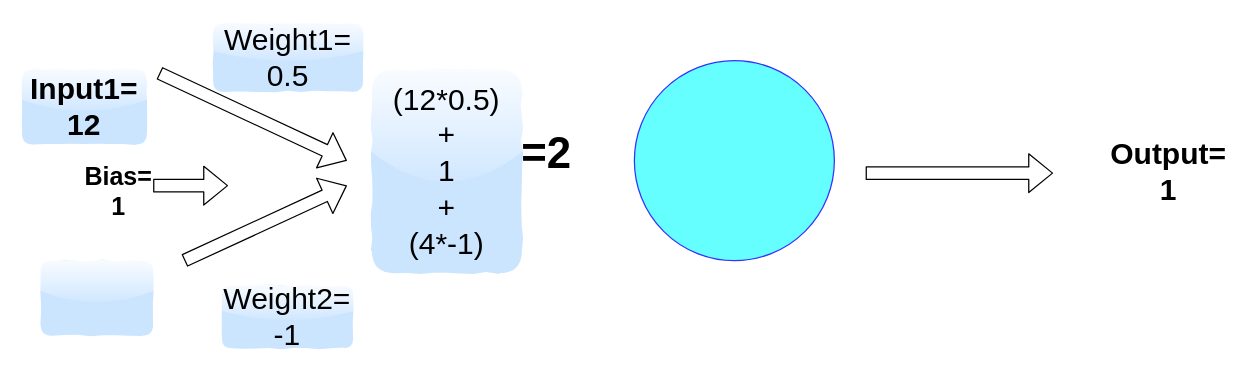
Image size: 1249x375. Some labels were removed from this diagram. The box of each missing label's shape, as (x1, y1, x2, y2) in pixels:
Activation Function: (633, 59, 834, 261)
Input2= 4: (40, 260, 152, 335)
